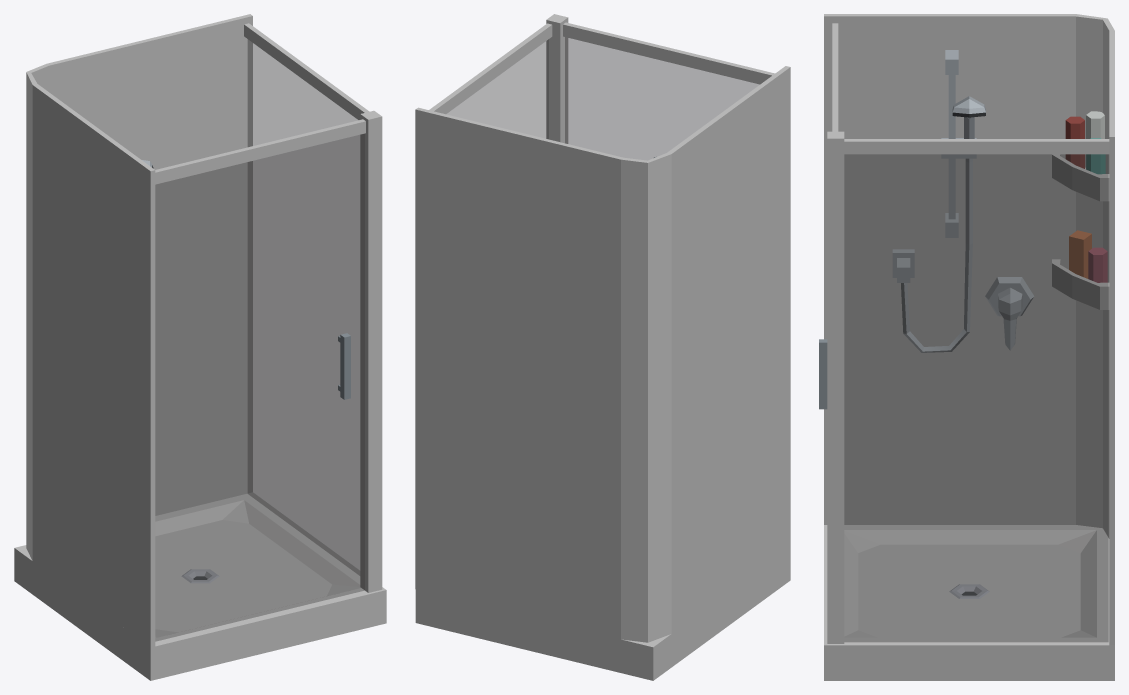
File: SM_Prop_Shower_01.fbx
3 views of the same model, side by side, from view 1: azimuth 30°, elevation 25°; view 2: azimuth 150°, elevation 25°; view 3: azimuth 270°, elevation 25° (orthographic). The views are drawn at different scales.
Visible parts, largest first — view 1: SM_Prop_Shower_01, SM_Prop_Shower_01_Glass; view 2: SM_Prop_Shower_01, SM_Prop_Shower_01_Glass; view 3: SM_Prop_Shower_01, SM_Prop_Shower_01_Glass.
Part boxes in pixels (x1,y1,x2,y2): SM_Prop_Shower_01: (14,14,386,680); SM_Prop_Shower_01_Glass: (155,40,364,641); SM_Prop_Shower_01: (415,14,790,680); SM_Prop_Shower_01_Glass: (447,37,759,160); SM_Prop_Shower_01: (819,14,1114,680); SM_Prop_Shower_01_Glass: (844,154,1108,641).
Size of the model in its own units: 115 by 237 by 117.
